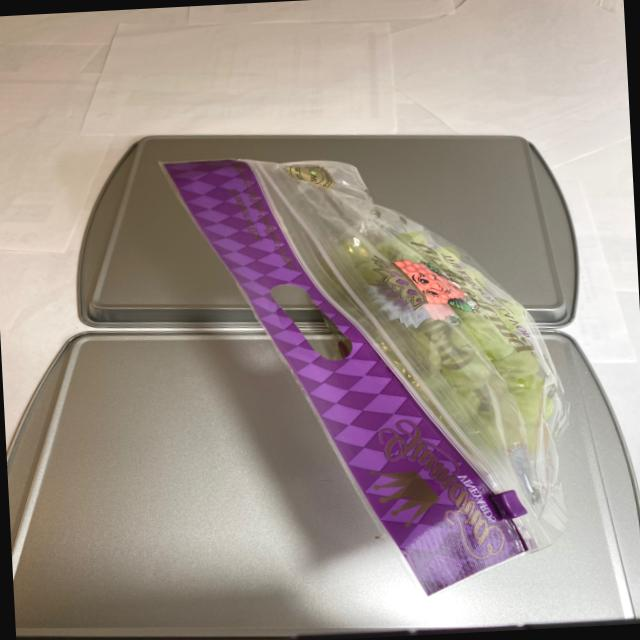grapes: (331, 195, 570, 471)
